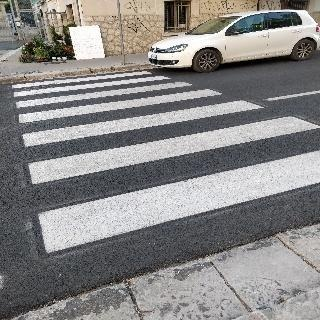road_crosswalk: (4, 85, 319, 246)
